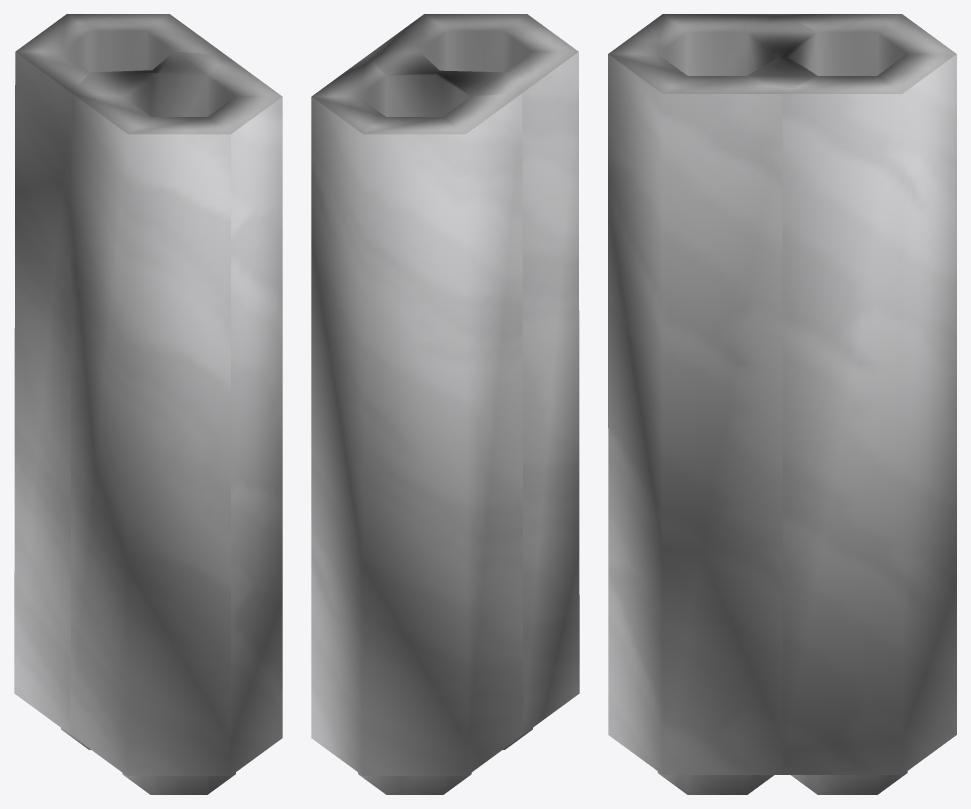
File: TLOG_DoubleBarrelChoke.fbx
3 views of the same model, side by side, from view 1: azimuth 30°, elevation 25°; view 2: azimuth 150°, elevation 25°; view 3: azimuth 270°, elevation 25° (orthographic). The views are drawn at different scales.
Parts seen in each view (by area): view 1: MetalPipe.001; view 2: MetalPipe.001; view 3: MetalPipe.001.
Boxes of the visible parts, x1,y1,x2,y2 form: MetalPipe.001: [14, 14, 282, 794]; MetalPipe.001: [311, 14, 579, 794]; MetalPipe.001: [608, 14, 956, 794].
Bounding box in the file's own units: 0.0173 × 0.0721 × 0.0317.
